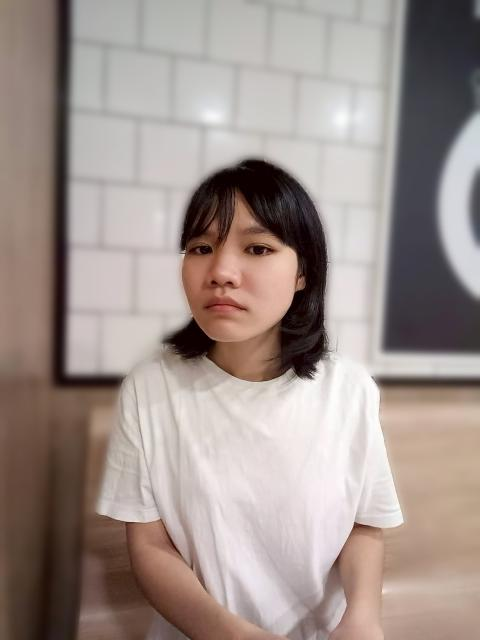fokus: (183, 176, 308, 342)
